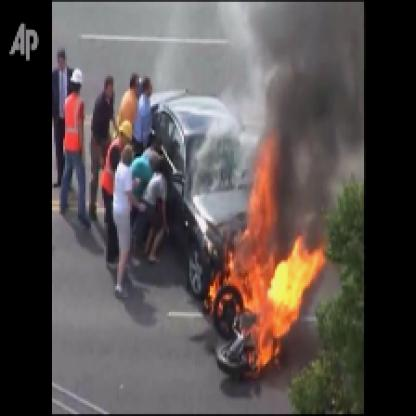Fire: (197, 123, 327, 377)
Smoke: (268, 2, 360, 158)
